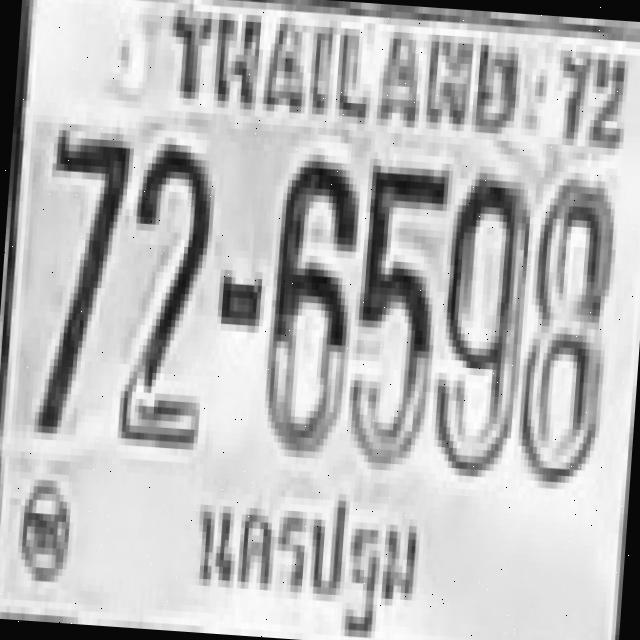2: (115, 135, 212, 443)
5: (343, 157, 448, 459)
6: (258, 152, 358, 452)
7: (32, 122, 129, 430)
8: (512, 173, 616, 488)
9: (428, 164, 529, 472)
NakhonPathom: (182, 476, 426, 640)
